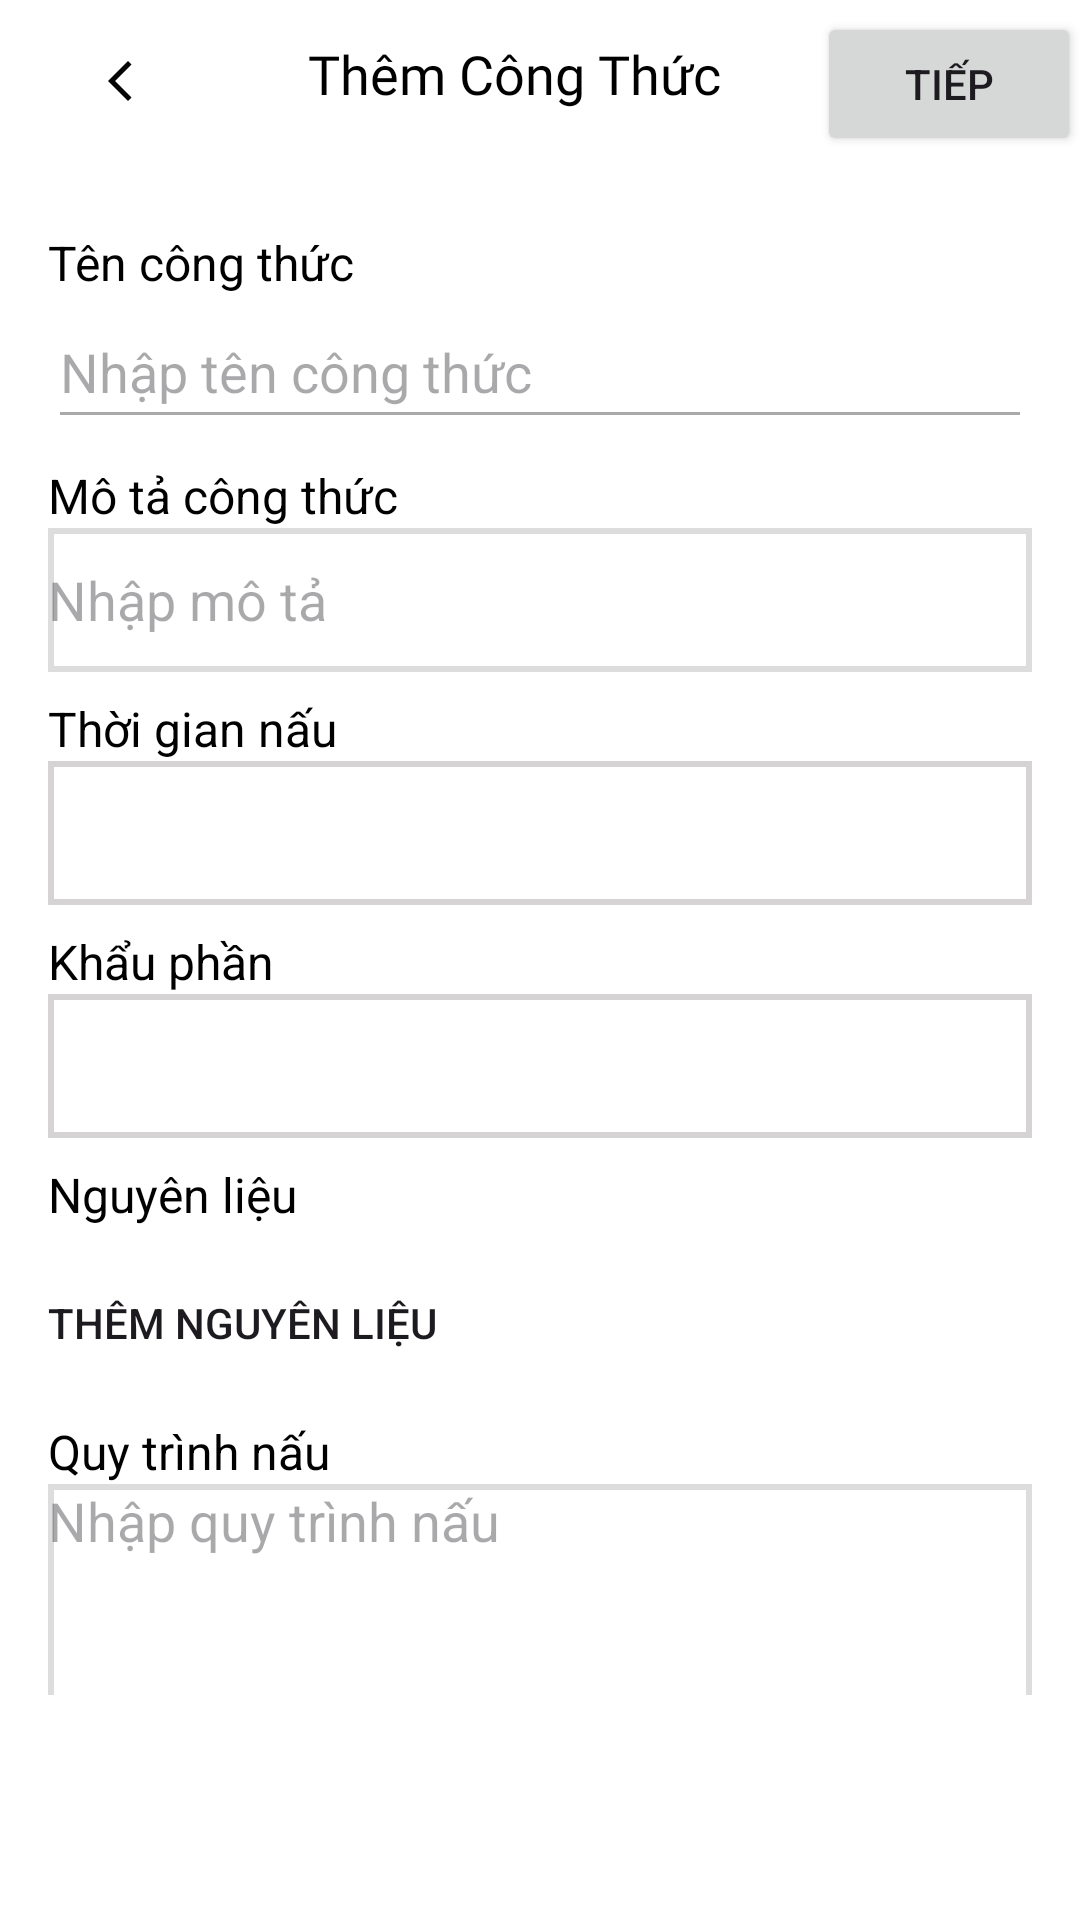

Icon bounding boxes for this 1080 × 1920 phone screenshot, format {"left": x1, "top": y1, "right": x2, "bottom": y2}:
Back: {"left": 108, "top": 61, "right": 132, "bottom": 101}
